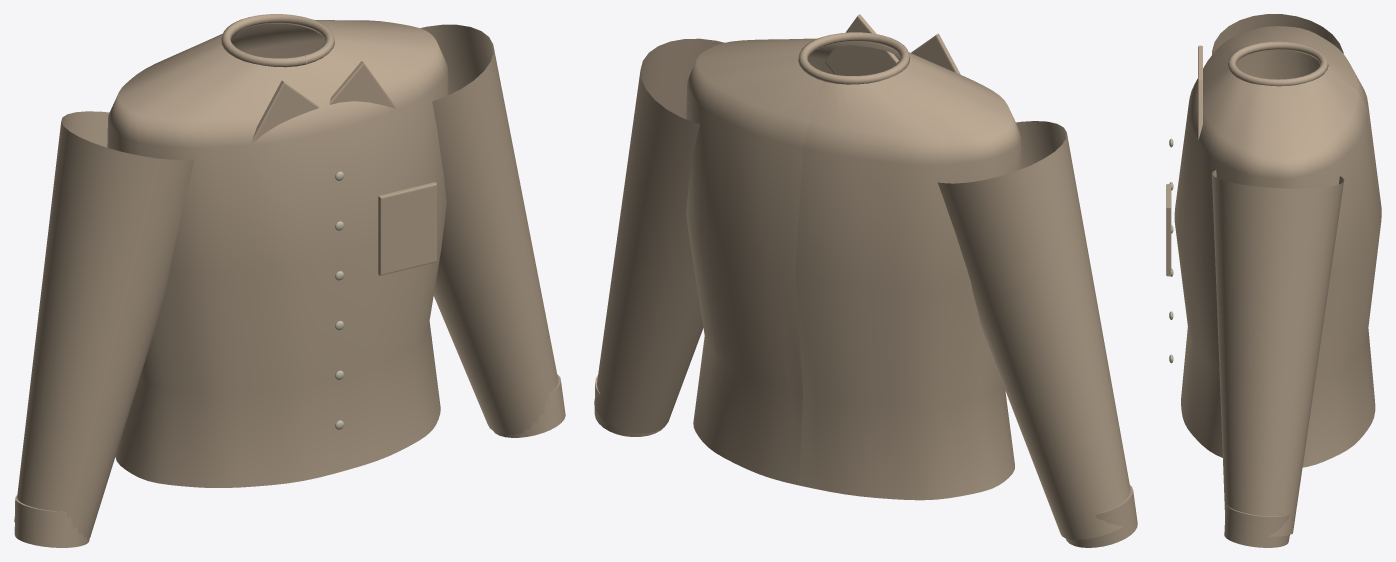
File: chemise-medina-homme.glb
3 renders of one model, left to right at view 1: azimuth 30°, elevation 25°; view 2: azimuth 150°, elevation 25°; view 3: azimuth 270°, elevation 25°, orthographic. The views are drawn at different scales.
Visible parts, largest first — view 1: edit-07, long-sleeve (×2); view 2: edit-07, long-sleeve (×2); view 3: edit-07, long-sleeve (×2).
Part boxes in pixels (<box>): edit-07: <box>14,14,565,547</box>; long-sleeve (×2): <box>14,24,558,539</box>; edit-07: <box>594,14,1137,547</box>; long-sleeve (×2): <box>594,38,1130,539</box>; edit-07: <box>1166,26,1381,547</box>; long-sleeve (×2): <box>1212,14,1344,536</box>.
Bounding box in the file's own units: 0.7505 × 0.5844 × 0.2985.
